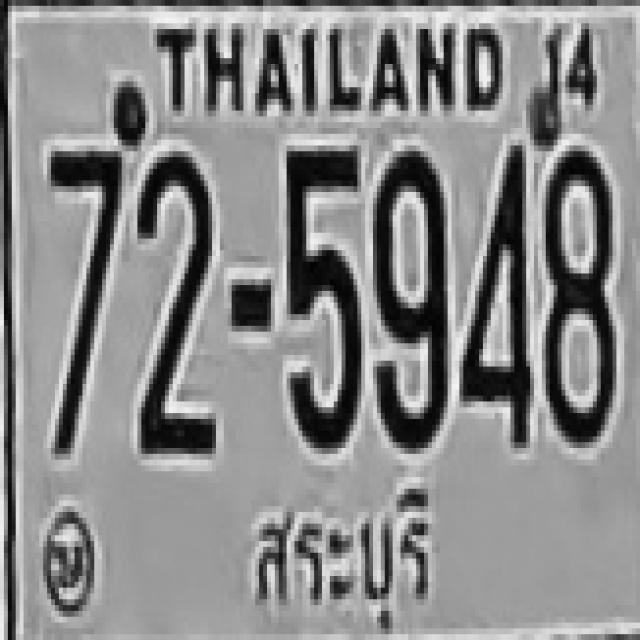2: (134, 148, 212, 440)
4: (459, 140, 530, 442)
5: (285, 145, 359, 448)
7: (47, 145, 118, 448), (49, 145, 120, 419), (49, 145, 120, 355)
8: (542, 146, 612, 442)
9: (369, 145, 444, 448)
SaraBuri: (238, 480, 437, 640)
